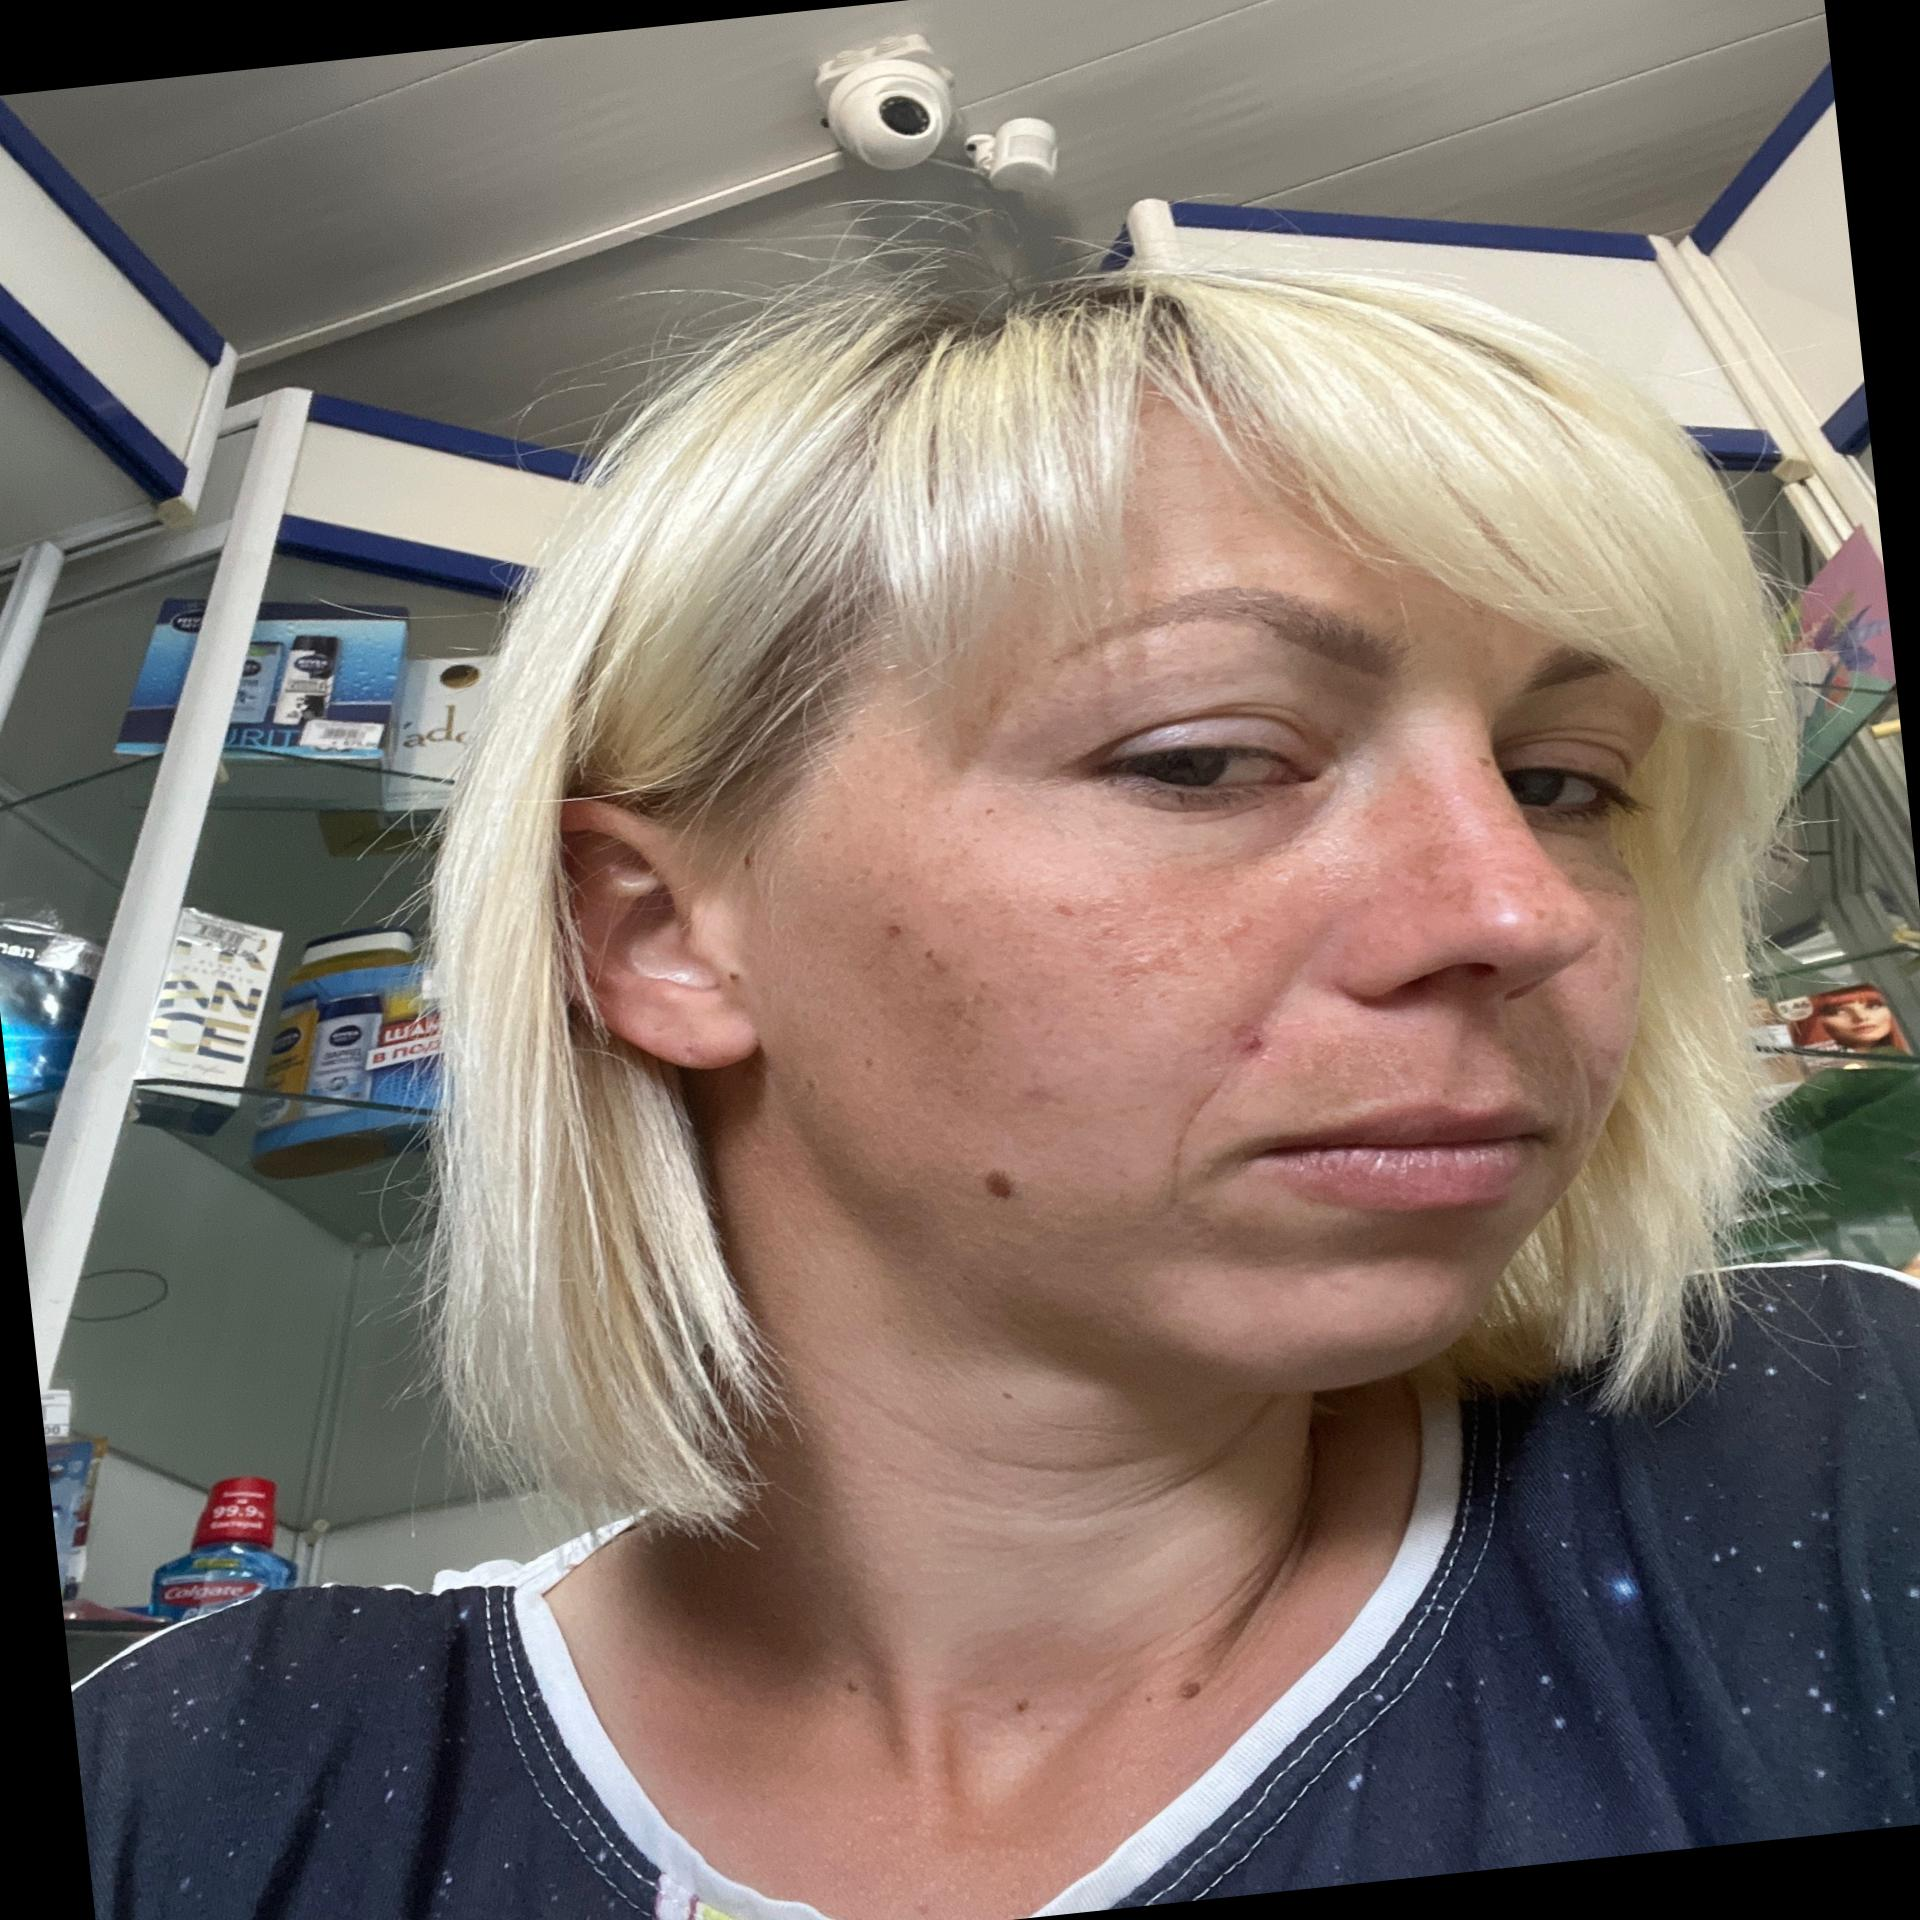Acne: (1220, 1011, 1273, 1065), (874, 918, 907, 944)
Englarged Pores: (1062, 881, 1250, 1007)
Wrinkles: (1148, 1074, 1241, 1213), (1533, 997, 1598, 1153)
